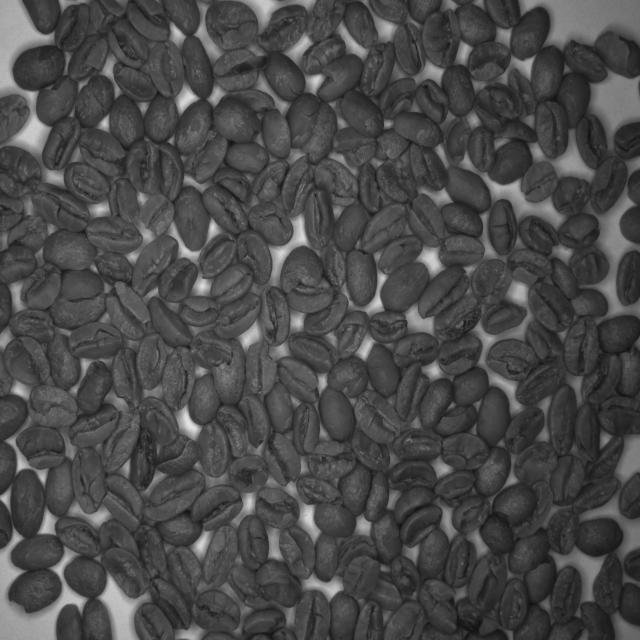bad: (131, 233, 178, 299), (142, 468, 206, 516), (28, 182, 89, 232), (104, 279, 152, 342), (466, 550, 508, 616), (204, 2, 260, 51), (182, 128, 228, 186), (101, 546, 150, 600), (70, 444, 107, 515), (102, 472, 144, 534), (418, 265, 469, 316), (254, 4, 308, 52), (353, 390, 401, 444), (422, 8, 462, 72), (100, 410, 140, 474), (211, 336, 247, 407), (148, 575, 192, 633), (314, 53, 364, 104), (526, 282, 574, 335), (190, 483, 244, 530), (579, 350, 623, 407), (212, 289, 260, 341), (78, 126, 125, 179), (201, 182, 248, 235), (260, 48, 306, 102), (313, 154, 359, 208), (7, 569, 63, 613), (3, 336, 51, 387), (191, 588, 243, 635), (148, 296, 194, 349), (136, 393, 180, 448), (547, 382, 578, 460), (202, 523, 239, 588), (262, 429, 302, 489), (418, 576, 458, 636), (594, 28, 640, 80), (589, 154, 627, 216), (563, 315, 601, 377), (62, 162, 111, 210), (256, 557, 303, 607), (394, 359, 430, 424), (514, 360, 566, 405), (34, 74, 78, 127), (148, 40, 188, 98), (281, 153, 316, 219), (254, 487, 302, 535), (49, 292, 111, 329), (26, 384, 78, 428), (166, 544, 204, 604), (516, 480, 554, 540), (14, 426, 67, 469), (584, 434, 627, 487), (42, 114, 81, 172), (533, 99, 570, 160), (213, 97, 261, 144), (486, 336, 535, 382), (210, 46, 260, 91), (105, 17, 149, 68), (304, 100, 338, 166), (406, 192, 446, 248), (287, 330, 339, 373), (571, 475, 623, 518), (66, 402, 119, 444), (0, 144, 41, 198), (256, 283, 290, 348), (278, 245, 324, 293), (18, 261, 62, 311), (87, 215, 143, 254), (503, 404, 545, 456), (74, 74, 114, 128), (125, 136, 161, 196), (237, 228, 273, 288), (246, 202, 294, 247), (550, 451, 586, 510), (53, 515, 102, 558), (284, 92, 319, 152), (65, 322, 123, 358), (134, 331, 168, 392), (279, 524, 316, 580), (210, 262, 255, 308), (361, 204, 406, 250), (156, 433, 203, 477), (227, 564, 271, 611), (375, 157, 419, 204), (292, 587, 331, 640), (112, 61, 160, 104), (437, 332, 485, 375), (278, 354, 320, 403), (162, 347, 194, 411), (238, 392, 272, 452), (302, 189, 336, 249), (345, 246, 379, 306), (392, 19, 427, 77), (194, 421, 229, 479), (398, 505, 444, 549), (125, 0, 172, 43), (66, 34, 108, 82), (157, 256, 199, 304), (76, 360, 112, 416), (111, 347, 143, 410), (441, 431, 490, 472), (408, 142, 448, 192), (417, 376, 454, 430), (440, 61, 476, 116), (513, 439, 558, 483), (592, 550, 622, 616), (331, 125, 377, 168), (54, 2, 92, 54), (302, 292, 349, 334), (433, 298, 482, 338), (389, 456, 438, 496), (238, 511, 270, 572), (306, 440, 356, 479), (363, 39, 396, 98), (575, 113, 608, 172), (333, 305, 369, 359), (443, 533, 477, 590), (466, 40, 512, 82), (472, 257, 513, 304), (391, 427, 443, 464), (597, 394, 640, 437), (190, 328, 234, 370), (129, 428, 157, 494), (134, 525, 167, 581), (326, 355, 370, 397), (434, 468, 478, 510), (301, 35, 347, 75), (518, 158, 558, 204), (523, 555, 559, 606), (342, 554, 381, 601), (488, 198, 519, 257), (198, 232, 236, 280), (286, 274, 334, 312), (216, 404, 249, 459), (342, 0, 379, 49), (484, 80, 528, 121), (519, 212, 560, 256), (416, 76, 452, 126), (508, 246, 553, 286), (454, 596, 500, 635), (392, 331, 440, 368), (334, 534, 376, 576), (350, 429, 391, 472), (308, 0, 347, 45), (251, 158, 289, 204), (248, 337, 278, 395), (7, 308, 55, 344), (573, 400, 600, 464), (213, 165, 254, 207), (378, 76, 417, 120), (482, 298, 528, 335), (376, 234, 423, 270), (384, 598, 424, 640), (499, 576, 529, 632), (5, 216, 48, 255), (552, 174, 591, 217), (557, 212, 601, 250), (296, 473, 342, 509), (158, 141, 185, 202), (0, 91, 31, 144), (228, 454, 269, 494), (569, 246, 610, 286), (291, 400, 320, 456), (242, 604, 287, 640), (437, 235, 486, 268), (107, 176, 139, 226), (546, 508, 580, 555), (526, 319, 564, 361), (433, 403, 478, 438), (133, 602, 174, 640), (615, 247, 640, 309), (580, 597, 616, 640), (442, 114, 470, 168), (140, 192, 174, 236), (475, 87, 508, 132), (94, 252, 133, 290), (450, 496, 491, 532), (614, 342, 640, 398), (366, 570, 402, 610), (221, 88, 276, 114), (177, 294, 219, 328), (468, 123, 496, 174), (86, 0, 125, 36), (390, 555, 421, 600), (508, 67, 536, 116), (364, 470, 390, 522), (372, 127, 411, 161), (351, 601, 385, 640), (368, 311, 408, 344), (358, 161, 382, 215), (490, 118, 537, 145), (320, 243, 347, 290), (617, 468, 640, 521), (613, 120, 640, 160), (367, 0, 408, 26), (546, 614, 585, 640), (0, 191, 24, 233)
good: (8, 464, 46, 538), (378, 260, 431, 313), (40, 227, 98, 272), (174, 183, 210, 253), (178, 34, 216, 100), (509, 5, 552, 62), (552, 69, 592, 130), (11, 46, 66, 90), (173, 96, 213, 155), (571, 514, 625, 557), (476, 384, 512, 448), (444, 167, 493, 214), (339, 88, 384, 138), (508, 526, 551, 578), (9, 533, 65, 572), (563, 37, 609, 84), (45, 332, 82, 390), (319, 387, 356, 444), (487, 142, 534, 186), (530, 44, 564, 104), (369, 508, 404, 566), (490, 483, 537, 526), (365, 343, 401, 399), (336, 462, 372, 518), (143, 92, 180, 146), (44, 454, 75, 518), (62, 554, 107, 598), (595, 312, 640, 356), (392, 110, 444, 148), (454, 2, 498, 46), (550, 566, 583, 624), (109, 95, 145, 148), (157, 509, 204, 548), (156, 0, 204, 38), (477, 446, 512, 498), (333, 203, 368, 253), (189, 373, 221, 427), (416, 528, 448, 582), (97, 519, 140, 559), (263, 383, 296, 435), (261, 106, 292, 161), (223, 140, 269, 176), (314, 501, 357, 539), (441, 200, 484, 238), (478, 514, 515, 558), (450, 367, 490, 407), (330, 588, 360, 640), (392, 488, 435, 524), (60, 268, 104, 302), (80, 596, 114, 640), (0, 245, 37, 285), (512, 603, 552, 640), (0, 392, 29, 443), (21, 0, 62, 35), (313, 531, 339, 586), (549, 256, 580, 300), (571, 285, 609, 319), (483, 0, 523, 32), (0, 440, 20, 499), (618, 580, 640, 630), (55, 600, 82, 640)
